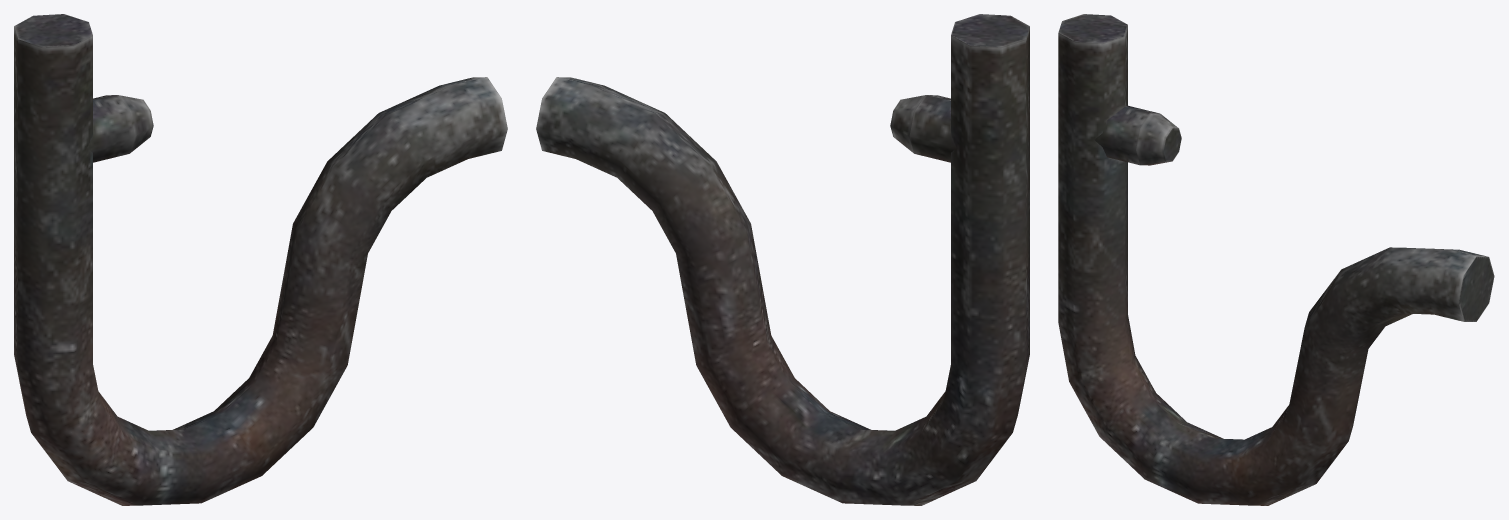
Rendered from NM_ThinTube_MonoHolder_01.fbx.
The picture shows the model from 3 angles, left to right: view 1: azimuth 30°, elevation 25°; view 2: azimuth 150°, elevation 25°; view 3: azimuth 330°, elevation 25°; orthographic projection. The views are drawn at different scales.
Visible parts, largest first — view 1: Tube_MonoHolder01_low; view 2: Tube_MonoHolder01_low; view 3: Tube_MonoHolder01_low.
Part boxes in pixels (x1=…): Tube_MonoHolder01_low: x1=14, y1=14, x2=507, y2=505; Tube_MonoHolder01_low: x1=536, y1=14, x2=1029, y2=505; Tube_MonoHolder01_low: x1=1058, y1=14, x2=1494, y2=505.
Bounding box in the file's own units: 32.33 × 33.28 × 4.87.
